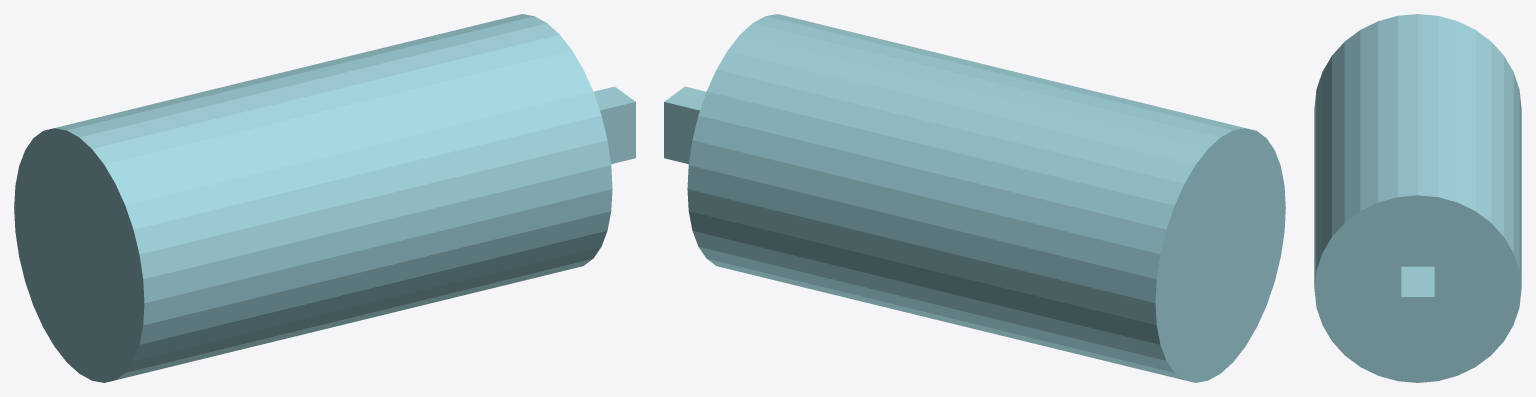
The model's file is cylinder_marker_v4008.obj.
The picture shows the model from 3 angles, left to right: view 1: azimuth 30°, elevation 25°; view 2: azimuth 150°, elevation 25°; view 3: azimuth 270°, elevation 25°; orthographic projection. The views are drawn at different scales.
Bounding box in the file's own units: 0.09 × 0.0372 × 0.0372.
Materials: 1 (1 with a texture image).
